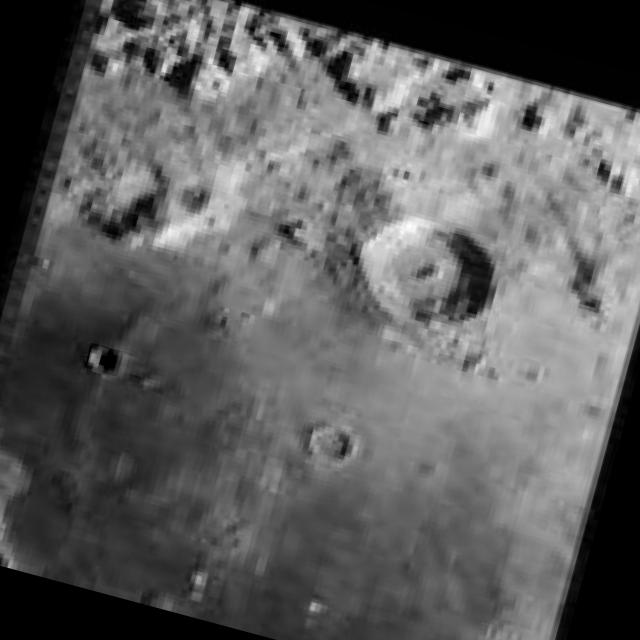crater: (348, 206, 506, 341), (306, 420, 356, 465), (84, 343, 124, 377)
